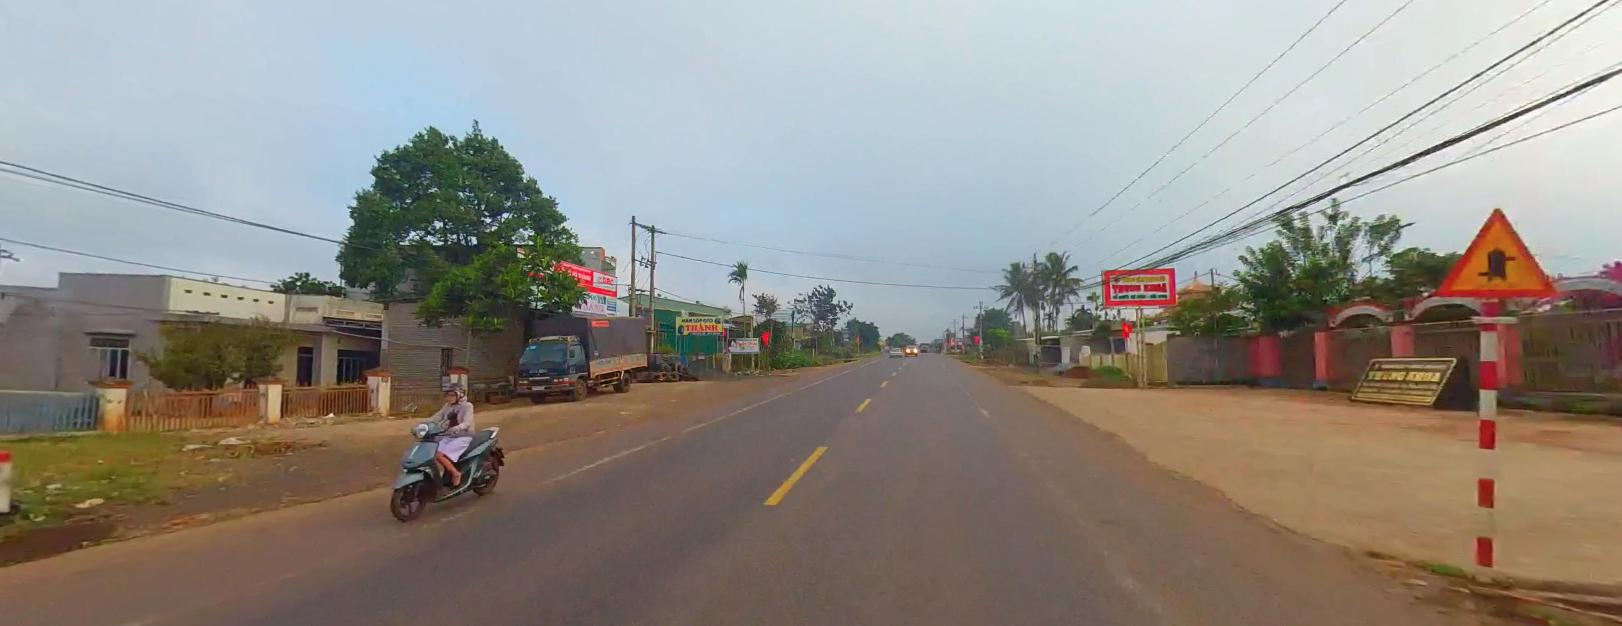Nguy hiem: (1435, 203, 1562, 303)
